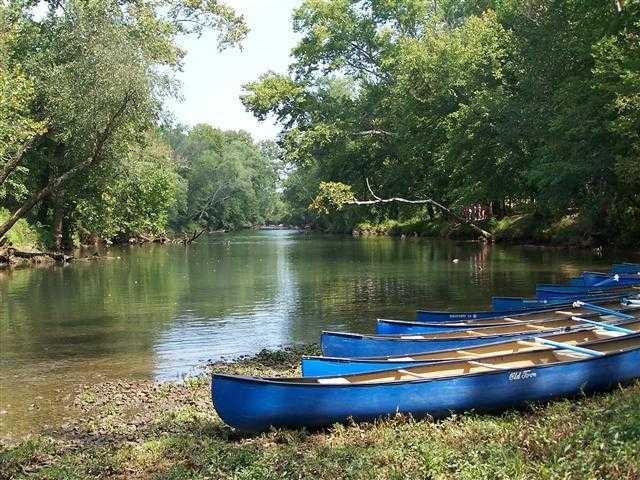kayak: (210, 337, 640, 433), (322, 315, 634, 361), (411, 299, 579, 324), (536, 272, 640, 298), (620, 295, 640, 309)
